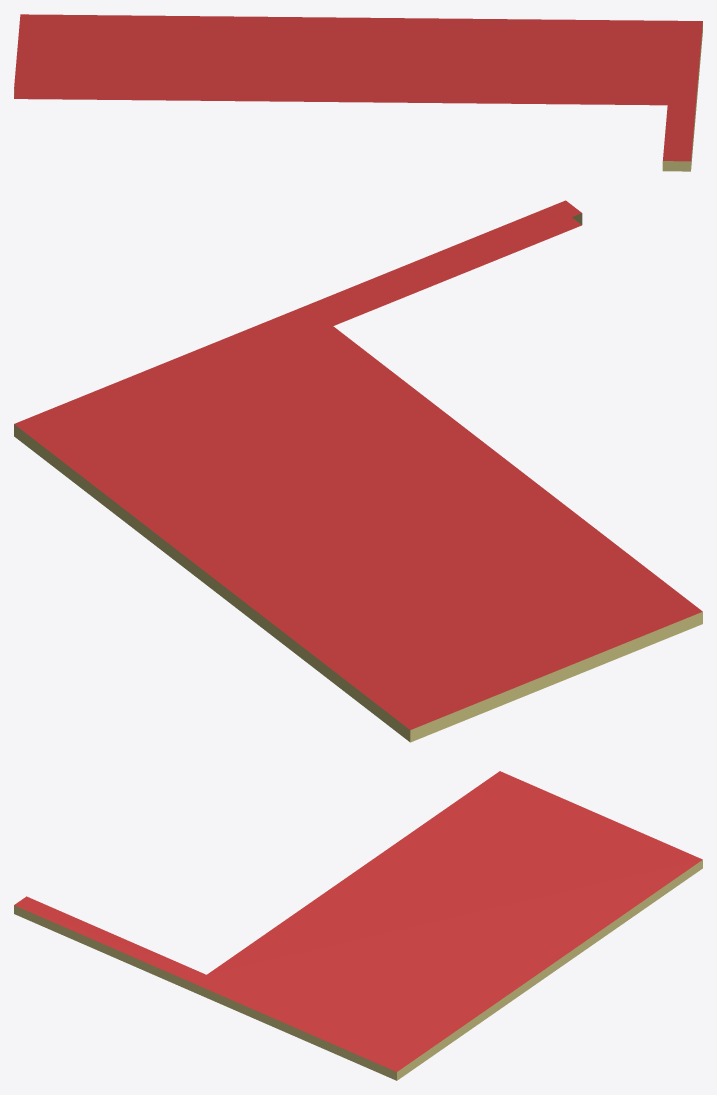
The picture shows the model from 3 angles, top to bottom: view 1: azimuth 30°, elevation 25°; view 2: azimuth 150°, elevation 25°; view 3: azimuth 270°, elevation 25°; orthographic projection. The views are drawn at different scales.
Size of the model in its own units: 6.43 by 7.07 by 0.875.
